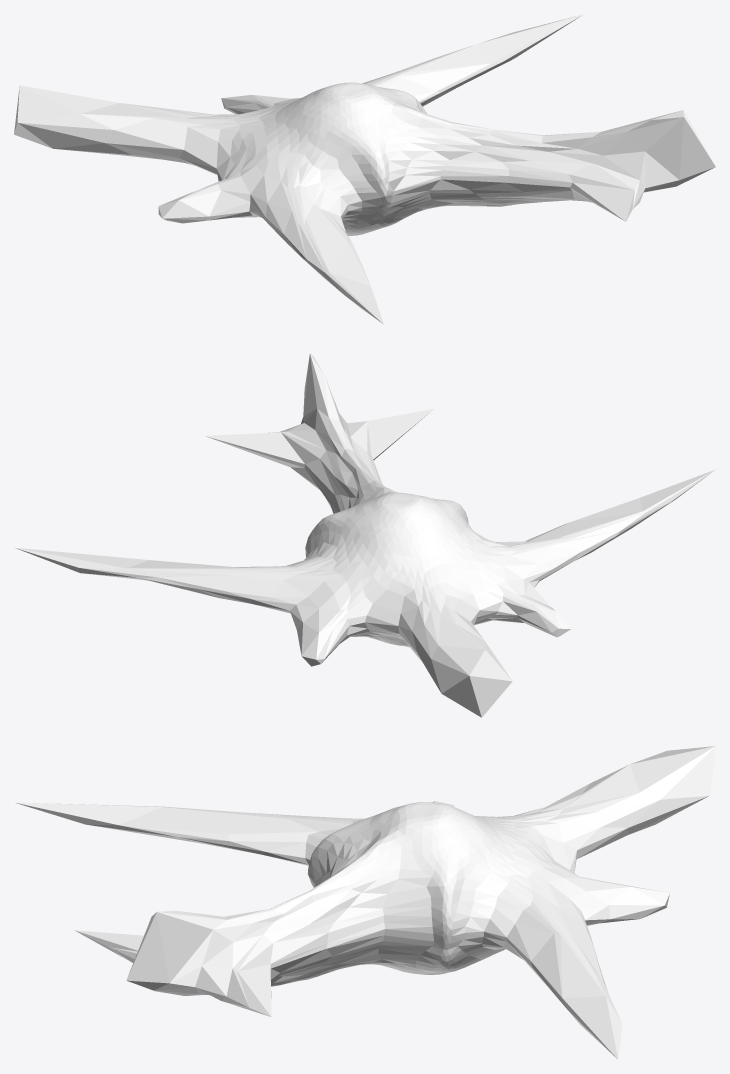
Rendered from plane_rotZ45[0.3,0.0,0.3]s1[-1.7,0.0,-1.7]_00160.obj.
3 views of the same model, one above another, from view 1: azimuth 30°, elevation 25°; view 2: azimuth 150°, elevation 25°; view 3: azimuth 270°, elevation 25° (orthographic). The views are drawn at different scales.
Size of the model in its own units: 1.33 by 0.3539 by 1.31.
Materials: 1 (1 with a texture image).
